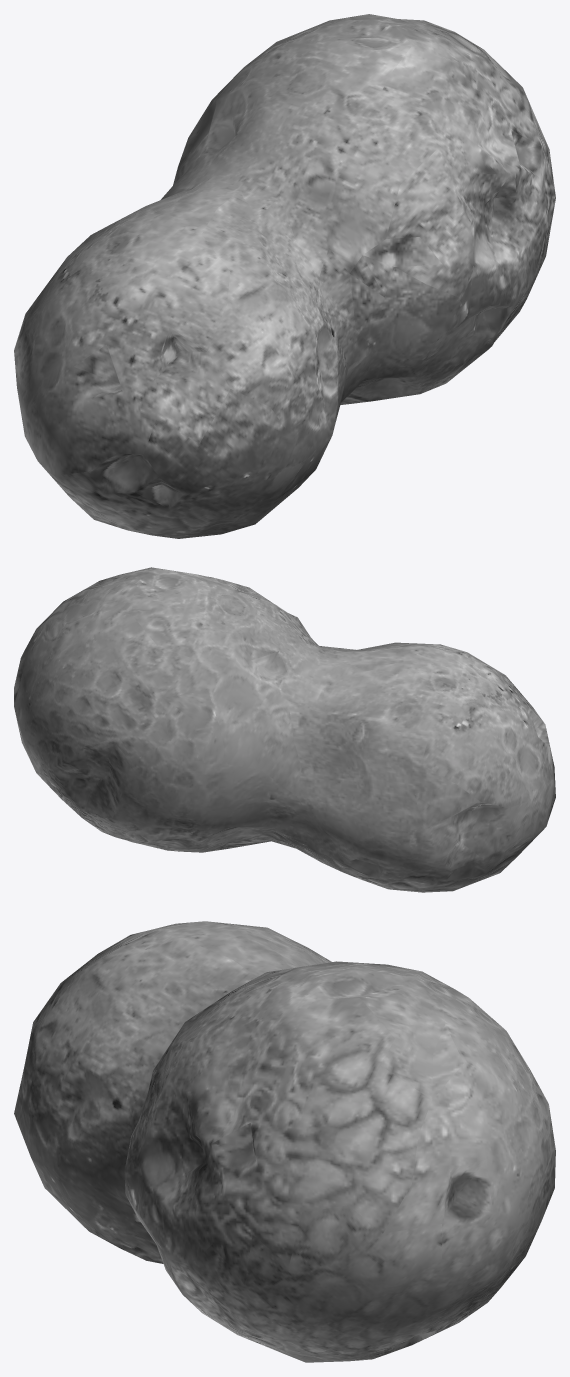
The model's file is rock_05.glb.
3 views of the same model, one above another, from view 1: azimuth 30°, elevation 25°; view 2: azimuth 150°, elevation 25°; view 3: azimuth 270°, elevation 25° (orthographic). The views are drawn at different scales.
Visible parts, largest first — view 1: rock_05; view 2: rock_05; view 3: rock_05.
Part boxes in pixels (x1,y1,x2,y2): rock_05: (14,14,555,538); rock_05: (14,567,555,892); rock_05: (14,921,555,1362).
Bounding box in the file's own units: 1.84 × 1.12 × 1.37.
1 material, 1 textured.
